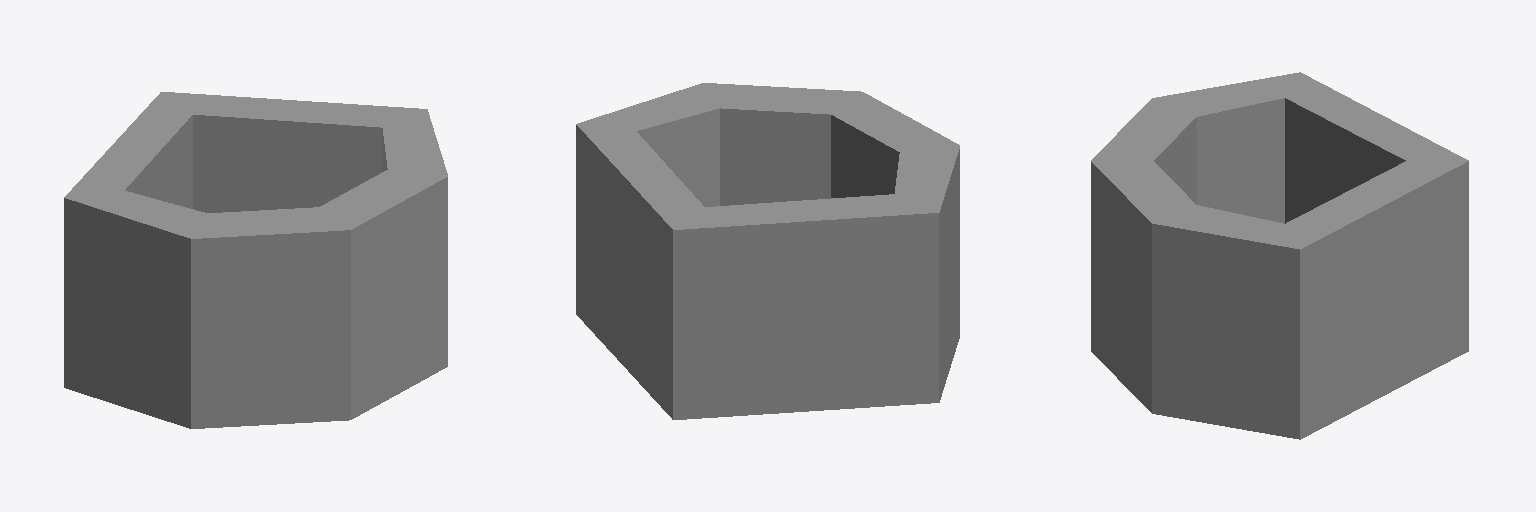
Rendered from gate1.obj.
3 views of the same model, side by side, from view 1: azimuth 30°, elevation 25°; view 2: azimuth 150°, elevation 25°; view 3: azimuth 270°, elevation 25° (orthographic).
Visible parts, largest first — view 1: Cylinder; view 2: Cylinder; view 3: Cylinder.
Part boxes in pixels (x1,y1,x2,y2): Cylinder: (64,92,447,428); Cylinder: (576,83,959,419); Cylinder: (1091,72,1468,439).
Bounding box in the file's own units: 2 × 1 × 1.8.